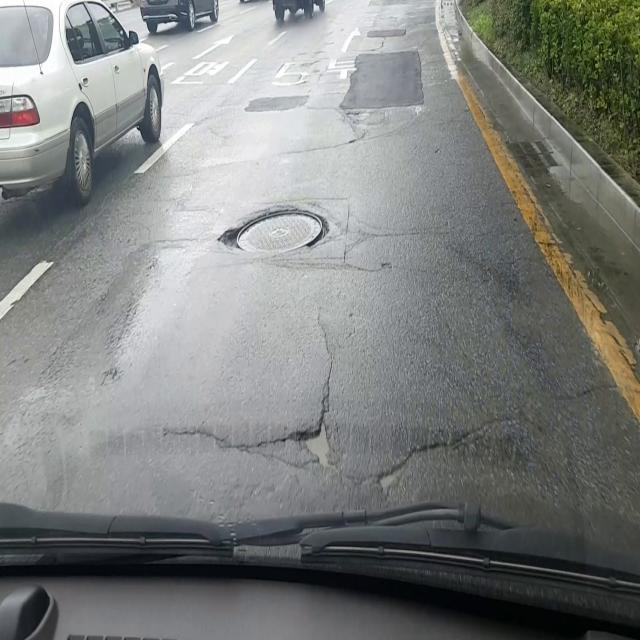Buraco: (285, 418, 340, 474), (373, 456, 412, 498), (215, 226, 246, 250)
